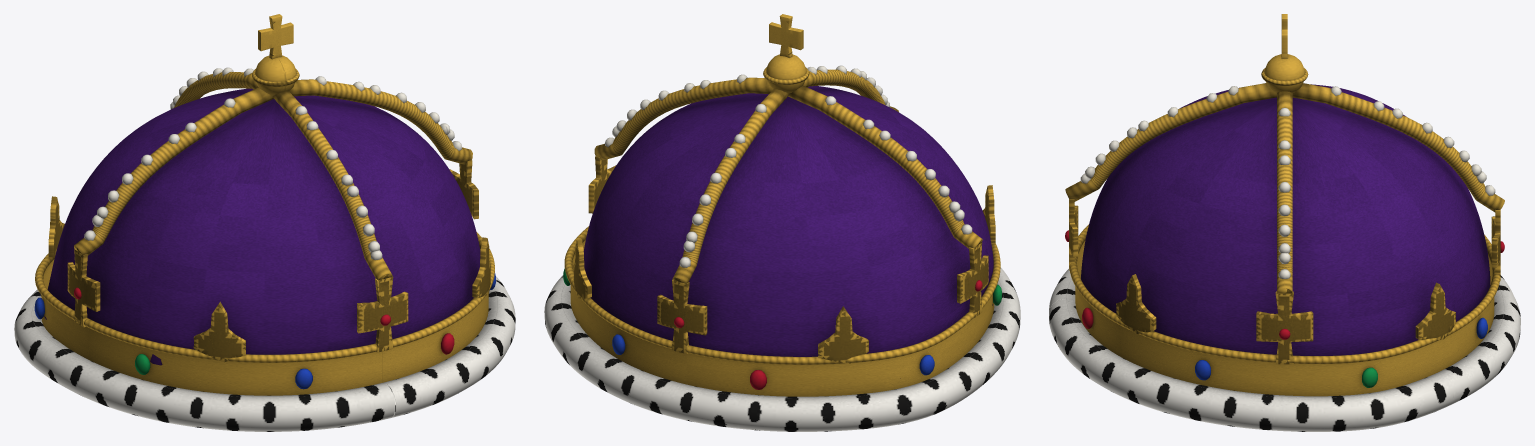
File: crown_imperial_male_hi.glb
3 renders of one model, left to right at view 1: azimuth 30°, elevation 25°; view 2: azimuth 150°, elevation 25°; view 3: azimuth 270°, elevation 25°, orthographic. The views are drawn at different scales.
Parts seen in each view (by area): view 1: crown_imperial_hi; view 2: crown_imperial_hi; view 3: crown_imperial_hi.
Boxes of the visible parts, x1,y1,x2,y2 form: crown_imperial_hi: [14, 14, 515, 431]; crown_imperial_hi: [544, 14, 1020, 431]; crown_imperial_hi: [1049, 14, 1520, 431].
Size of the model in its own units: 0.6519 by 0.482 by 0.6344.
1 material, 1 textured.
